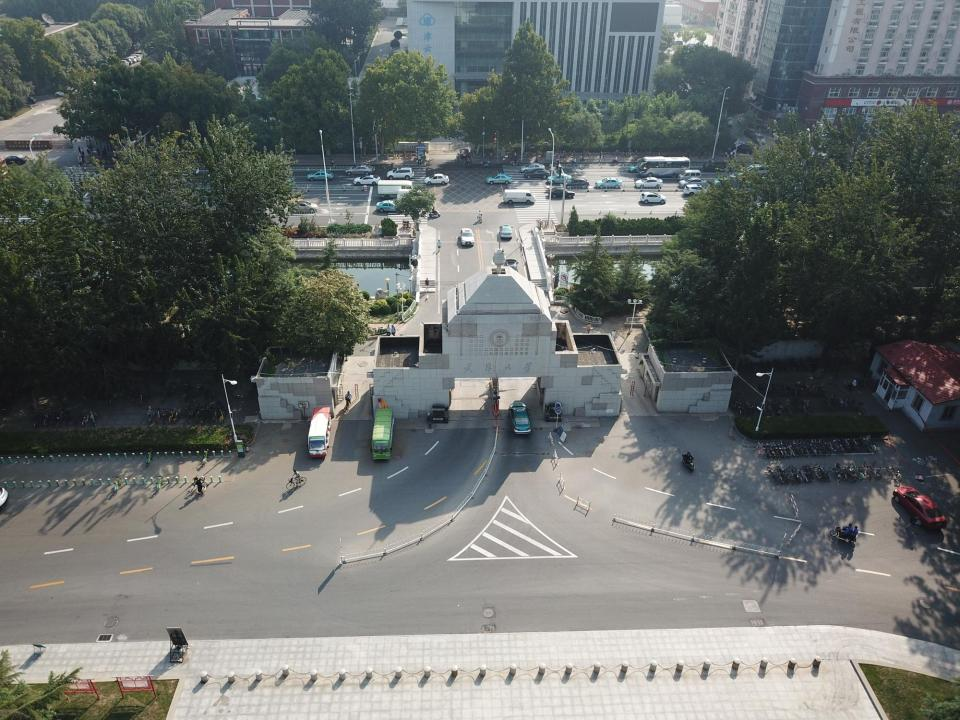bus: (306, 406, 331, 459), (371, 409, 393, 461), (638, 157, 691, 177)
car: (894, 484, 949, 529), (509, 402, 532, 435), (286, 198, 322, 216), (683, 184, 715, 199), (424, 173, 450, 187), (633, 178, 663, 190), (640, 192, 667, 205), (678, 177, 708, 188), (387, 168, 414, 180), (378, 201, 402, 214), (458, 228, 475, 246), (564, 178, 589, 190), (548, 172, 571, 185), (486, 173, 513, 184), (549, 188, 576, 199), (596, 178, 622, 189), (306, 170, 334, 180), (344, 166, 374, 175), (678, 169, 702, 180), (524, 169, 550, 179), (353, 176, 380, 185), (503, 257, 518, 273), (499, 224, 513, 241), (737, 141, 756, 153), (772, 131, 788, 145), (628, 163, 650, 173), (520, 163, 544, 170), (753, 132, 764, 147), (745, 127, 759, 137), (738, 116, 750, 126), (723, 114, 732, 126), (460, 147, 468, 158)
van: (373, 179, 415, 199), (502, 190, 537, 207), (398, 189, 425, 205), (703, 158, 727, 172)
